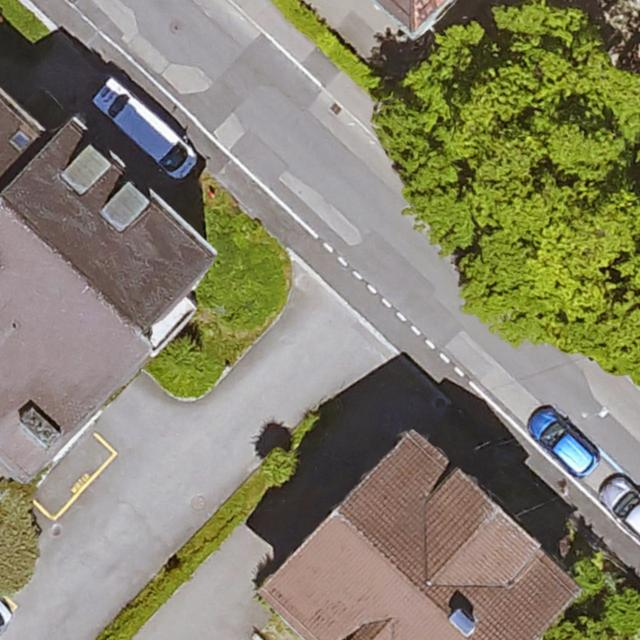tree: (383, 8, 640, 370), (0, 482, 35, 587), (159, 340, 204, 384), (603, 584, 640, 637), (261, 447, 300, 487)
